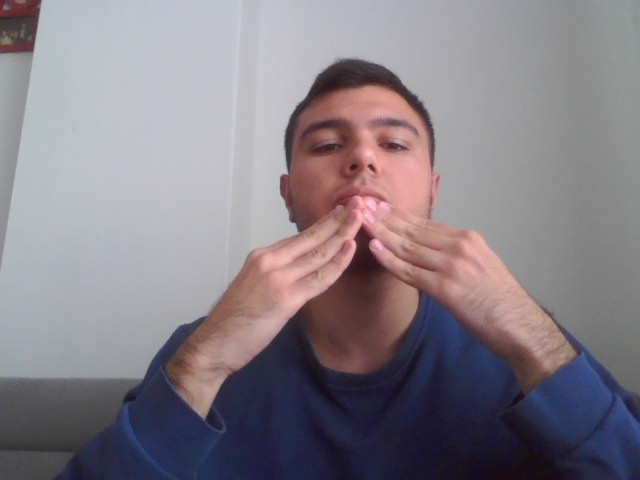thanks: (184, 195, 580, 374)
